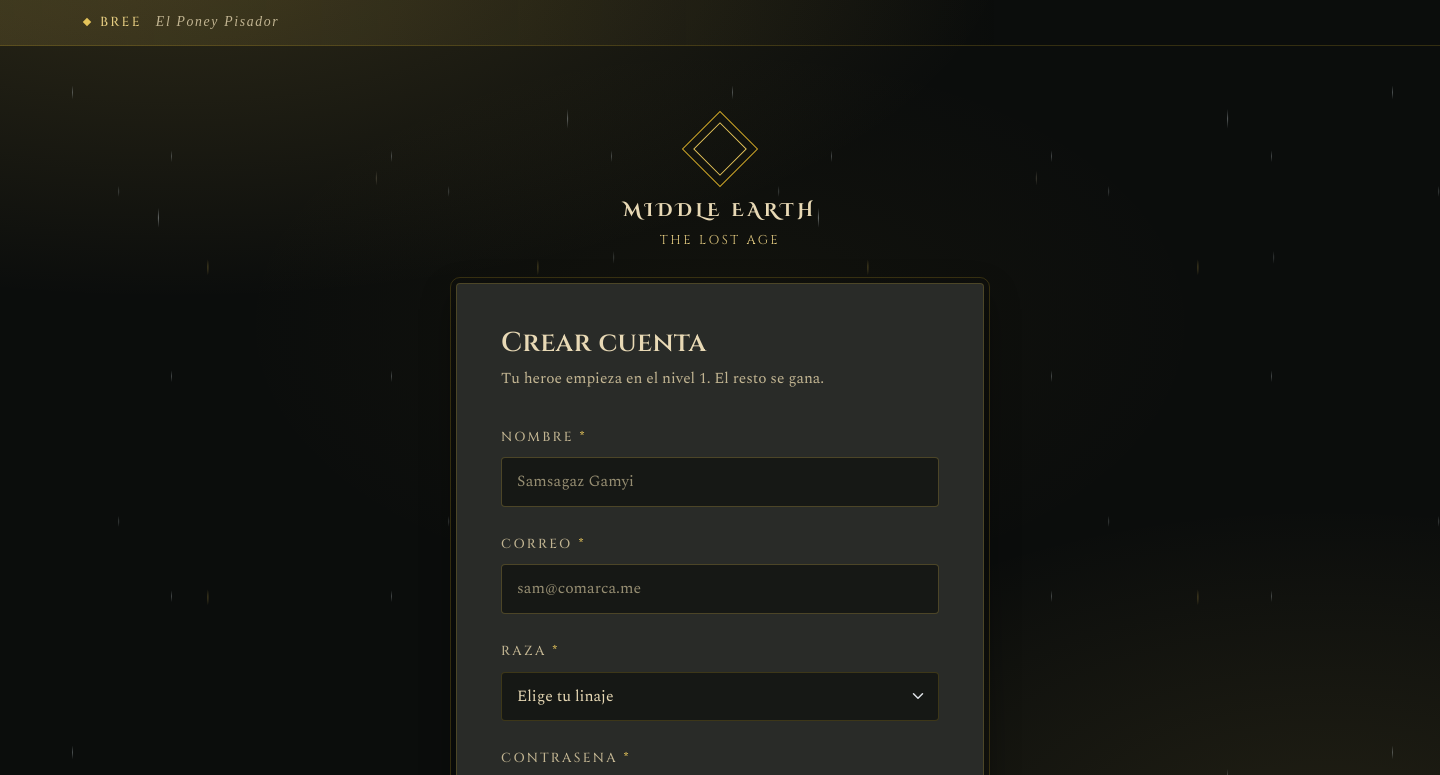
Test: Registro › validacion › avisa cuando el correo no tiene forma de correo
Type "sam.comarca" into the field labelled "Correo *".
click(720, 589); type("sam.comarca")  # box top-left (501, 564), bottom-right (939, 614)
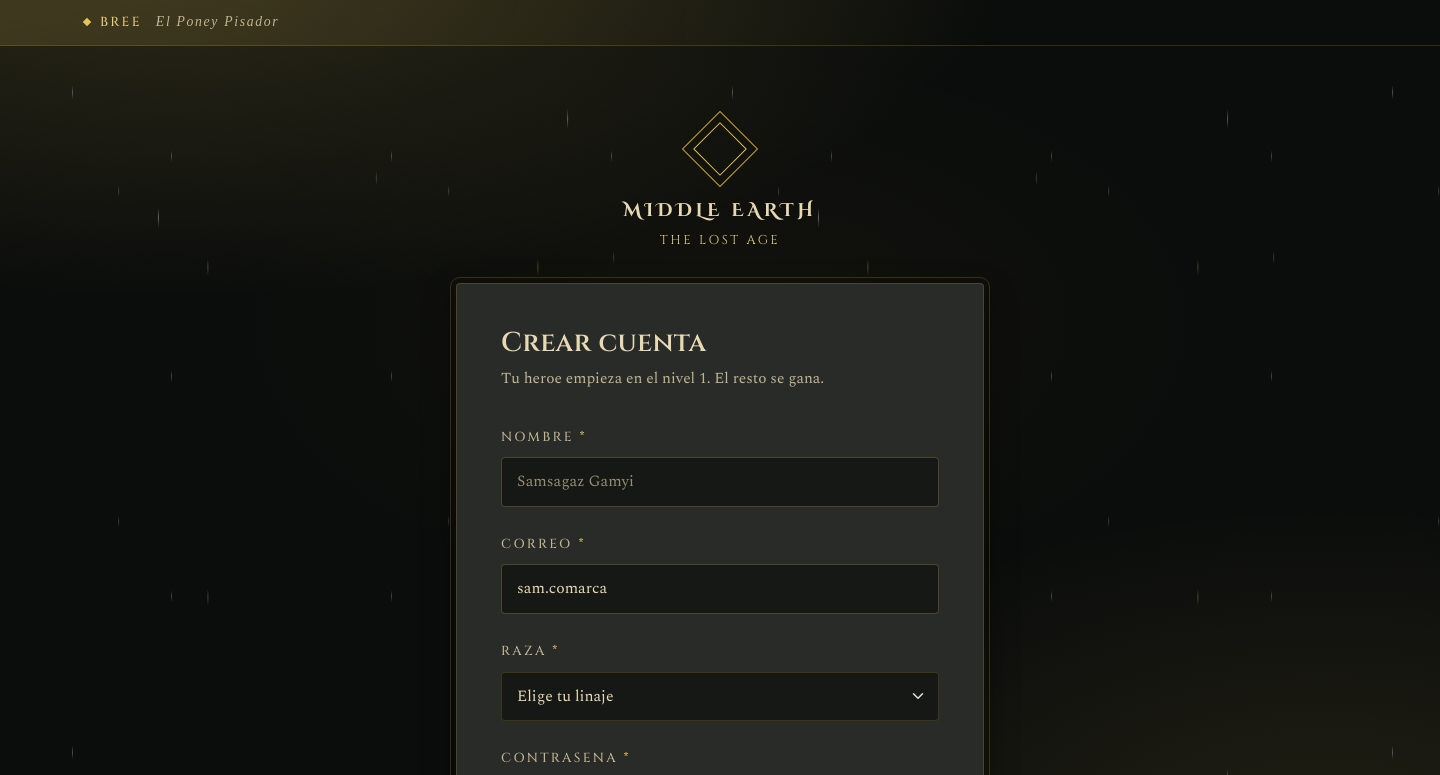
Leave the field labelled "Correo *", box top-left (501, 564), bottom-right (939, 614)
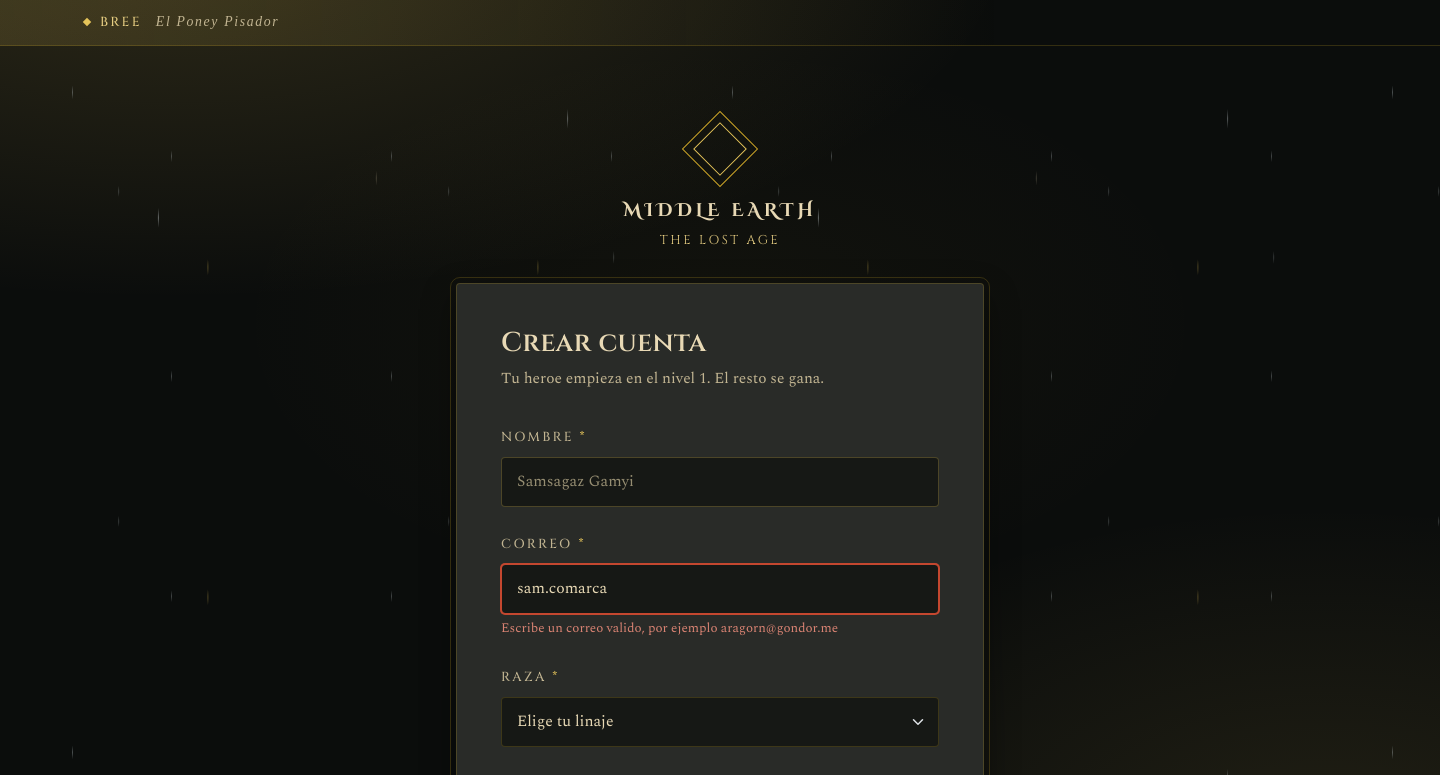
Now the text "Escribe un correo valido, por ejemplo aragorn@gondor.me" is shown, box top-left (501, 618), bottom-right (838, 638)
